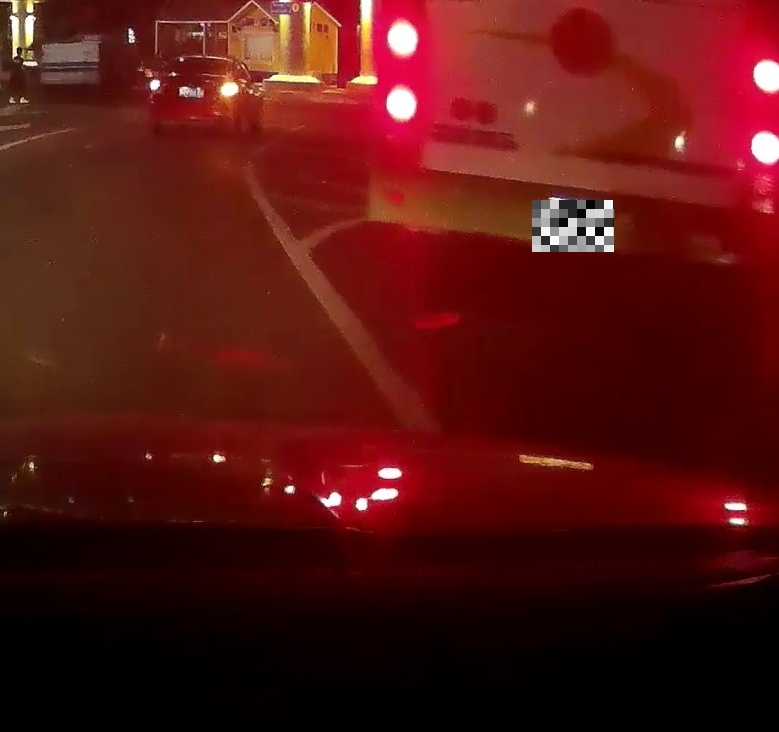L_light: (150, 80, 165, 91)
R_light: (219, 82, 239, 95)
T_light: (192, 59, 206, 63)
night-right: (148, 54, 242, 135)
plate_1: (532, 200, 614, 252)
